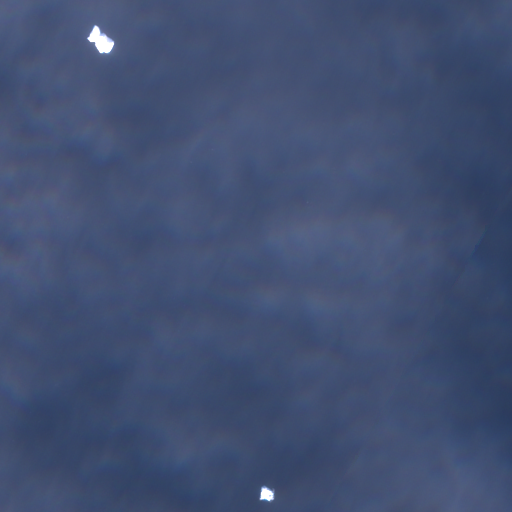Iceberg: (87, 25, 113, 53), (259, 485, 274, 501)
